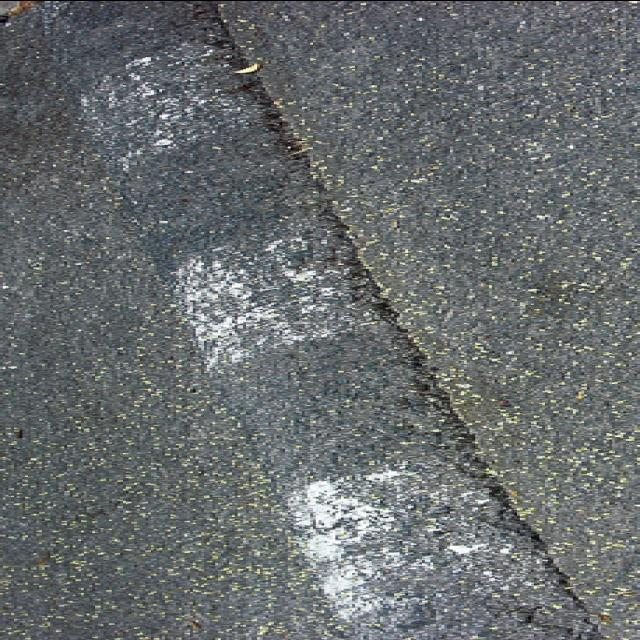speedbreaker: (48, 0, 584, 640)
